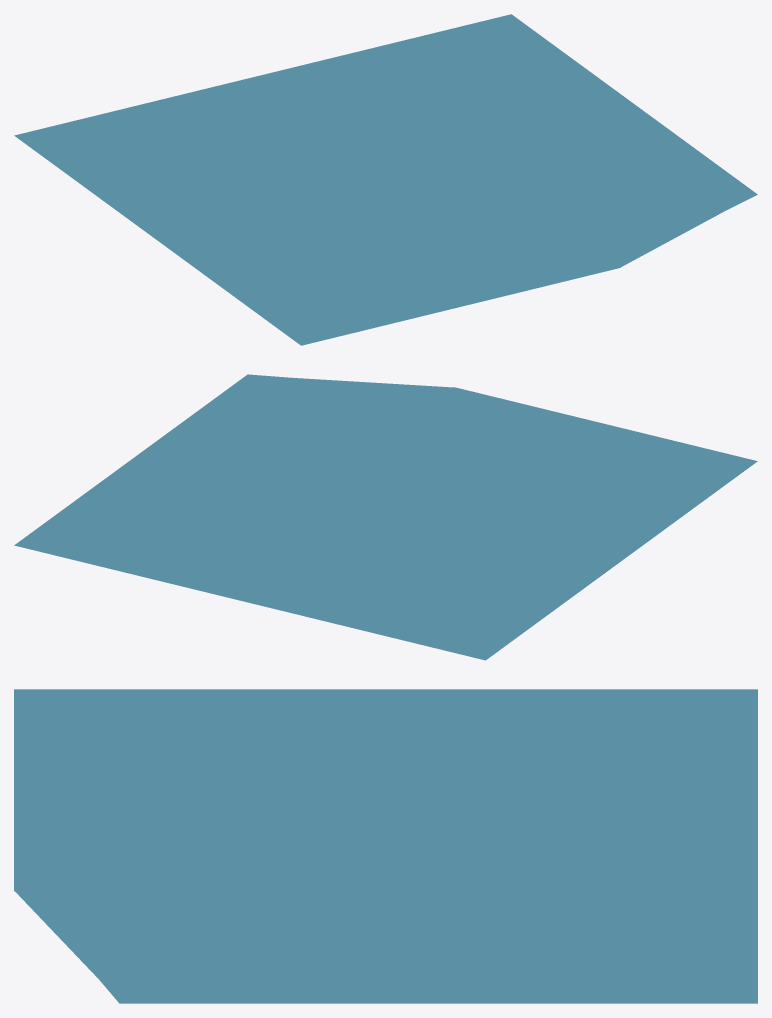
File: nature_15_-2.glb
The picture shows the model from 3 angles, top to bottom: view 1: azimuth 30°, elevation 25°; view 2: azimuth 150°, elevation 25°; view 3: azimuth 270°, elevation 25°; orthographic projection. The views are drawn at different scales.
Parts seen in each view (by area): view 1: water; view 2: water; view 3: water.
Boxes of the visible parts, x1,y1,x2,y2 form: water: [14, 14, 757, 345]; water: [14, 374, 757, 660]; water: [14, 689, 757, 1003].
Bounding box in the file's own units: 250 × 0 × 250.
